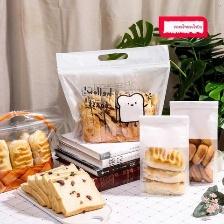snack: (52, 40, 175, 148), (0, 101, 70, 196), (164, 95, 223, 188), (135, 110, 195, 201)
